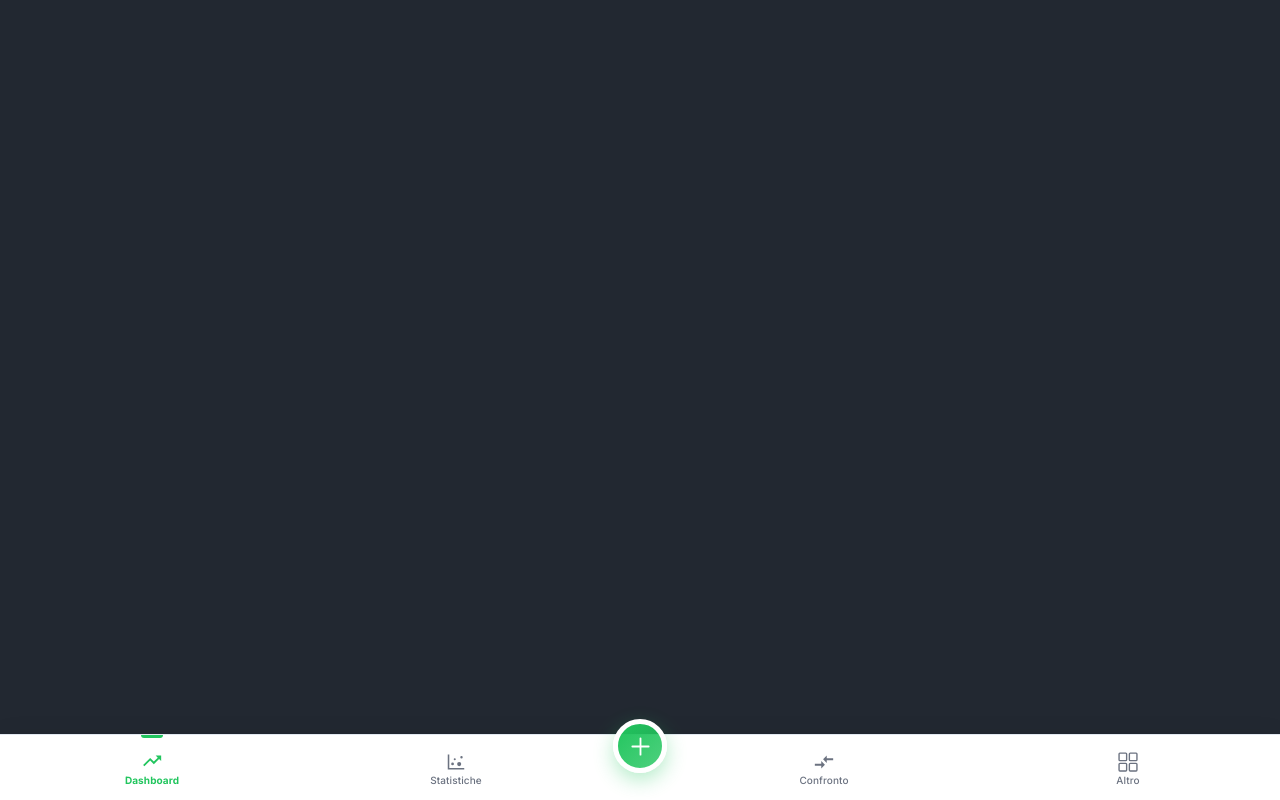
Test case: BottomNavBar › shows and closes the backdrop
The image size is (1280, 800).
Click the button "Altro" at (1128, 768), box [976,735,1279,799]
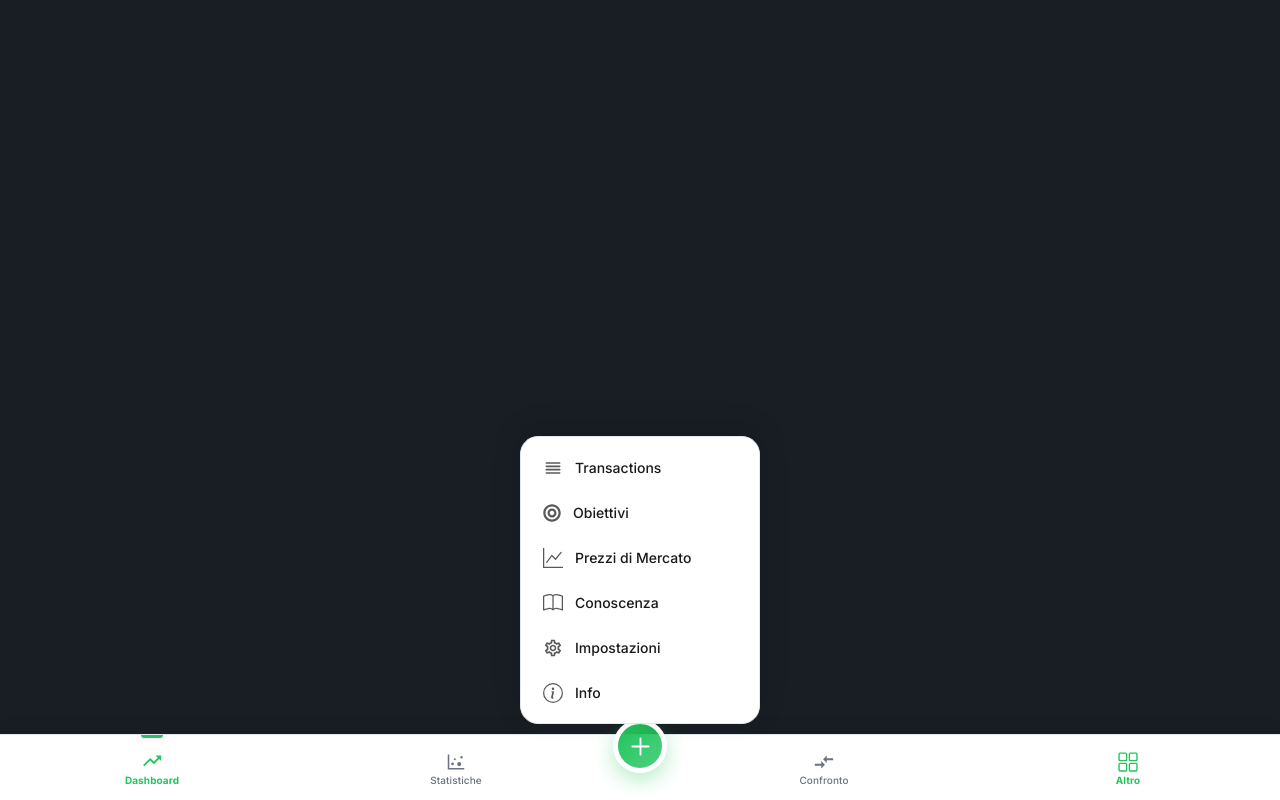
Click the element with test id "bottom-nav-backdrop" at (640, 400), box [0,0,1279,799]
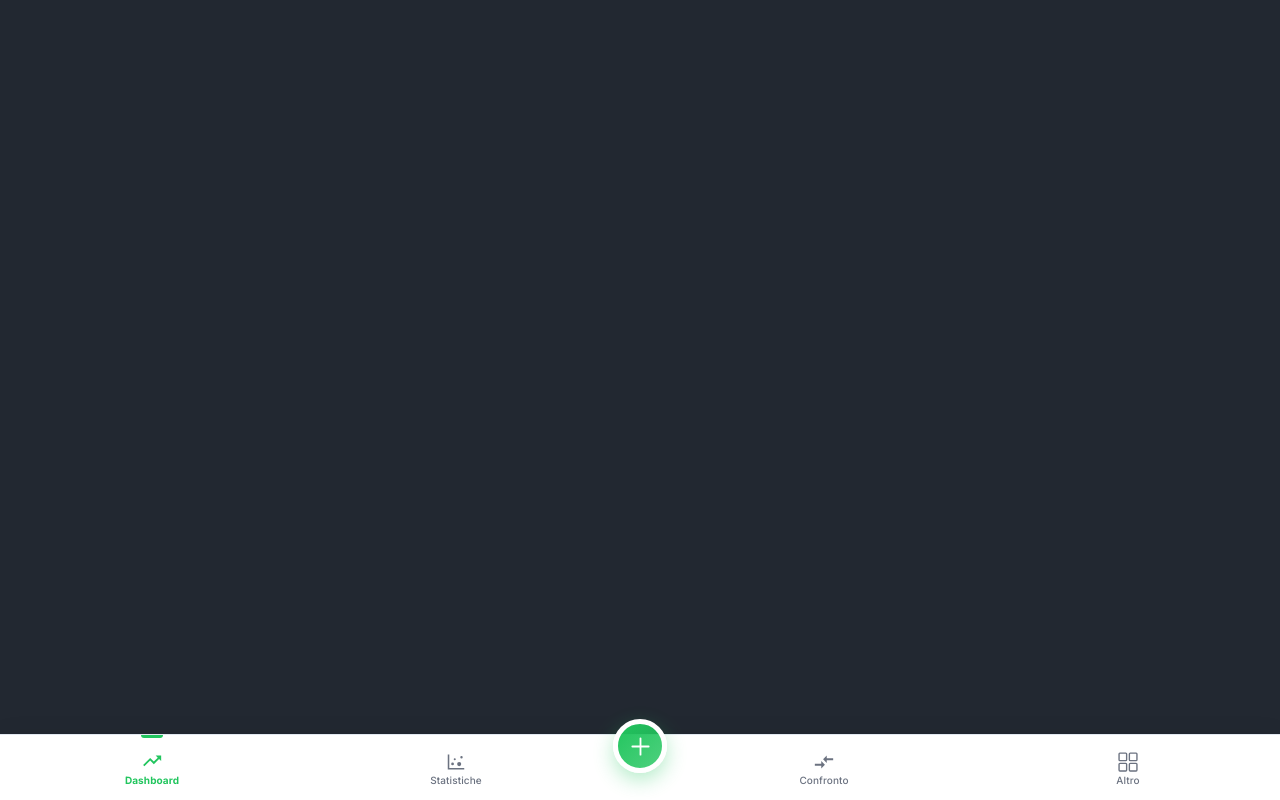
Expected: the button "Obiettivi" is gone
